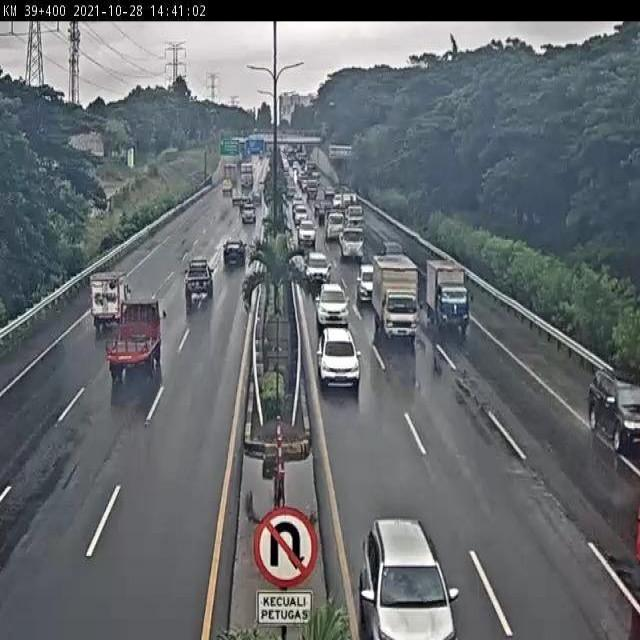car: (589, 364, 640, 452), (315, 324, 360, 391), (315, 281, 350, 327), (183, 259, 214, 300), (304, 250, 332, 286), (220, 241, 246, 271), (357, 261, 375, 303)
mid truck: (105, 297, 163, 379)
small truck: (88, 272, 129, 328)
truck-m-: (373, 255, 418, 340)
truck-s-: (427, 258, 471, 334)
